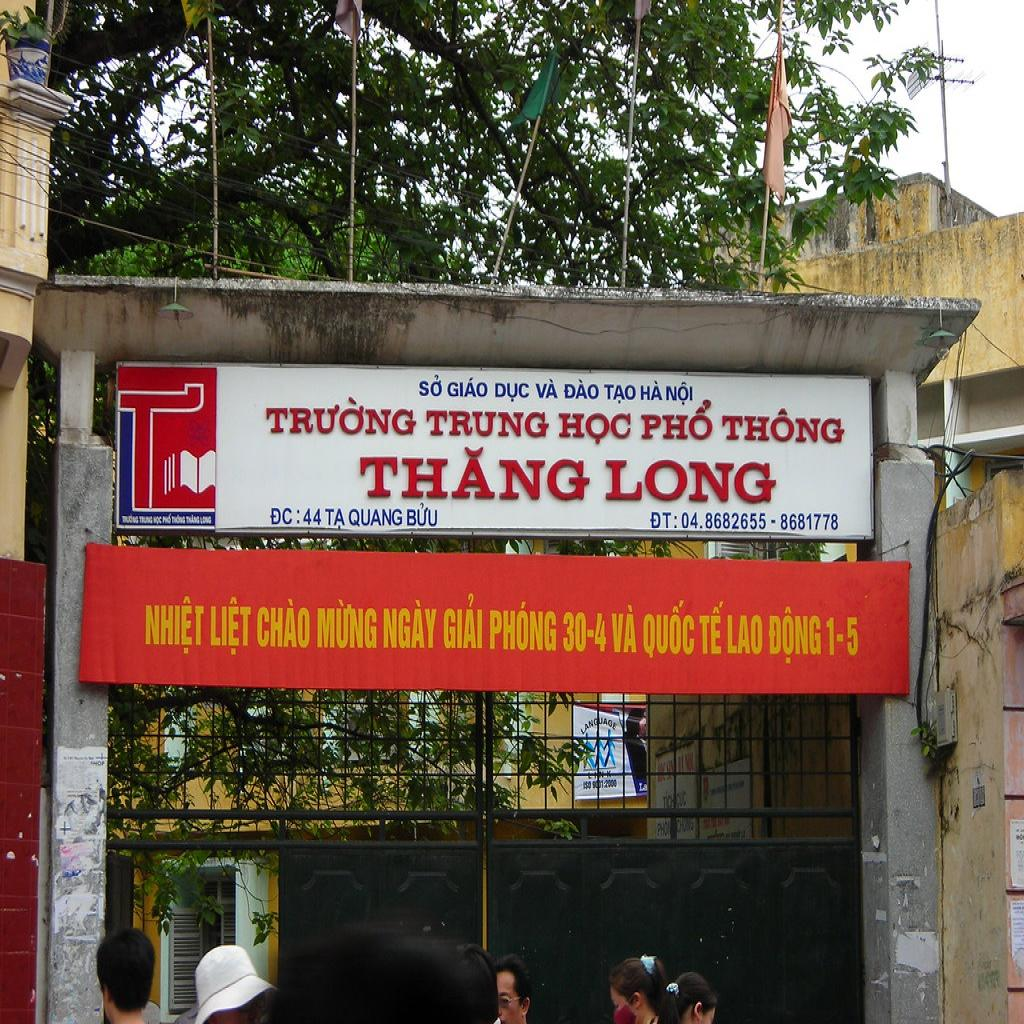text: (360, 444, 591, 503), (605, 459, 777, 504), (266, 395, 418, 437), (722, 408, 847, 444), (426, 409, 550, 439), (144, 596, 206, 656), (490, 602, 558, 654), (643, 598, 696, 662), (641, 398, 715, 442), (316, 598, 378, 650), (768, 607, 822, 665), (383, 598, 440, 650), (256, 598, 311, 650), (558, 412, 632, 447), (210, 598, 253, 658), (443, 592, 484, 651), (563, 610, 608, 654), (681, 511, 768, 532), (727, 613, 764, 656), (699, 600, 725, 657), (826, 616, 859, 659), (611, 605, 639, 655), (781, 514, 839, 534), (348, 508, 404, 528), (447, 376, 490, 400), (563, 379, 600, 401), (665, 380, 694, 407), (604, 383, 637, 405), (494, 382, 530, 402), (269, 506, 302, 526), (418, 374, 443, 398), (640, 380, 665, 403), (533, 379, 560, 400), (325, 506, 348, 530), (650, 511, 679, 529), (579, 714, 599, 738), (303, 508, 323, 528), (598, 716, 619, 732), (121, 514, 140, 526), (139, 515, 154, 525), (172, 515, 186, 525), (186, 515, 200, 525), (582, 780, 593, 791), (163, 514, 173, 526), (605, 780, 618, 789), (200, 516, 212, 525), (153, 516, 163, 525)
